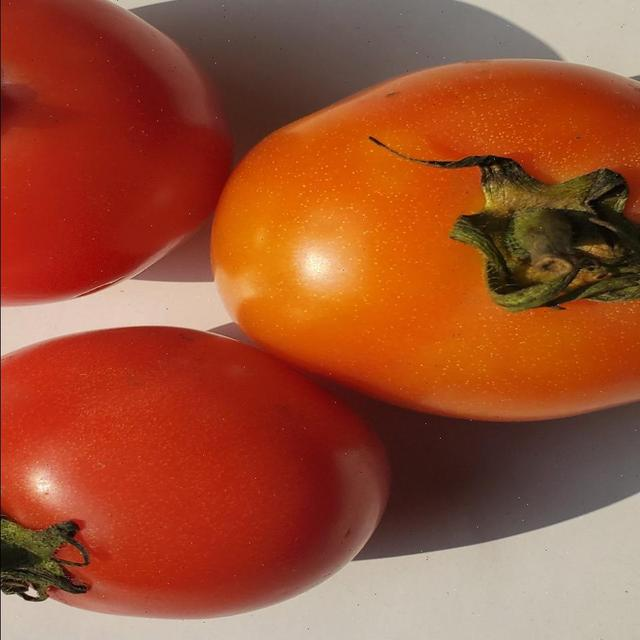Healthy Fruit: (79, 104, 295, 314)
